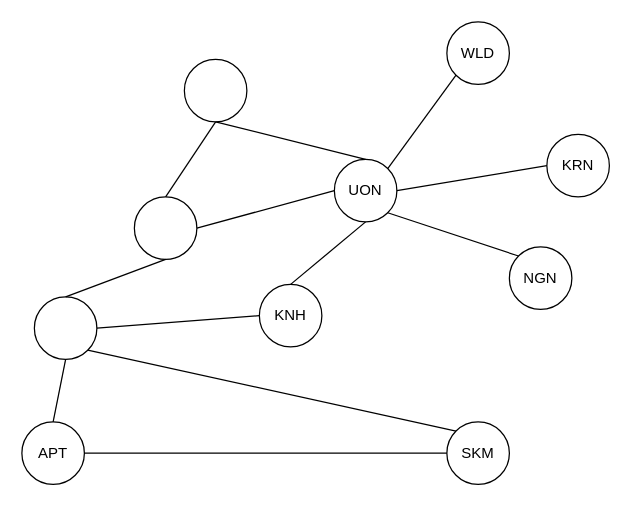
Image size: 631x506. Some labels were removed from this diagram. The shapes that lost their labels are listed below. From the top down, each one's centre as x and y in pixels, then its label:
(215,90): CBD
(165,227): PKL
(65,327): NSD
